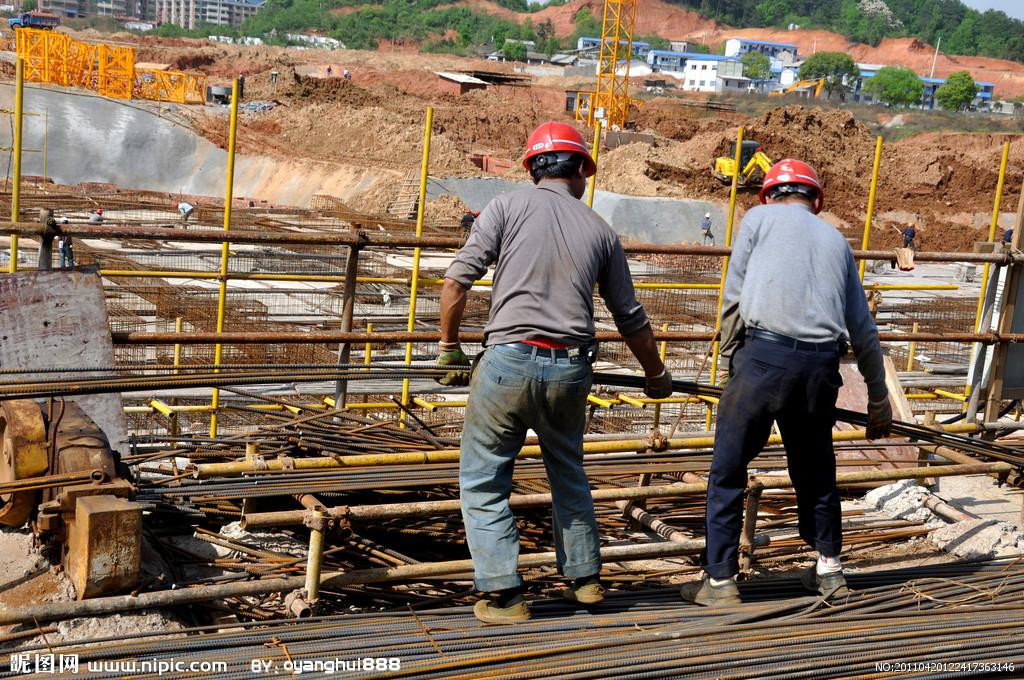helmet: (521, 120, 598, 176), (759, 158, 828, 211)
